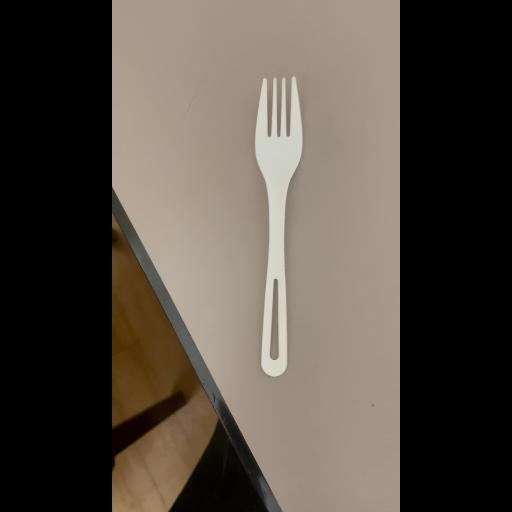utensil: (239, 66, 315, 388)
